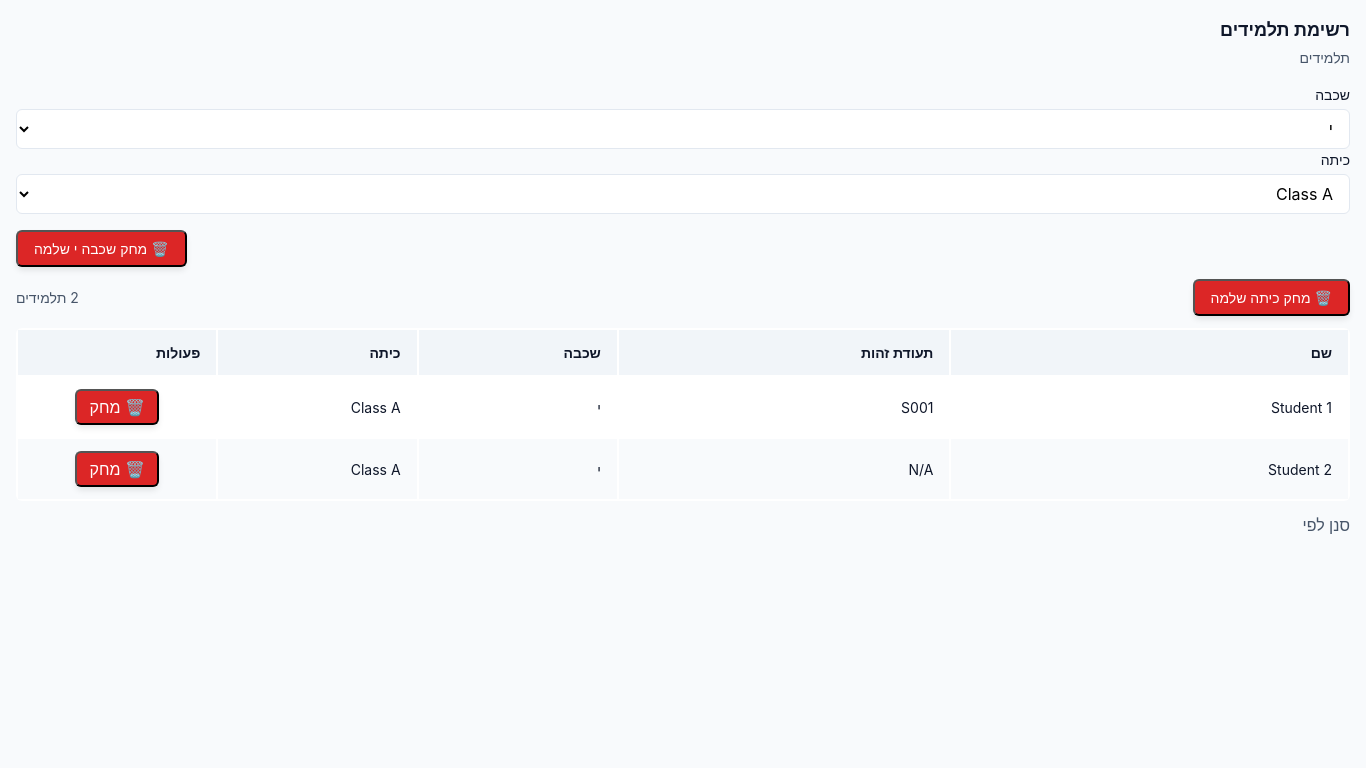
Scenario: StudentList › Class Filtering (Requirement 2.2, 2.4) › should update students when class changes
Expected: the text "Student 1" is shown, [951,377,1348,437]
Note: Change to Class B
Select "Class B" in the dropdown labelled "כיתה" at {"x": 683, "y": 194}, box [16,174,1350,214]
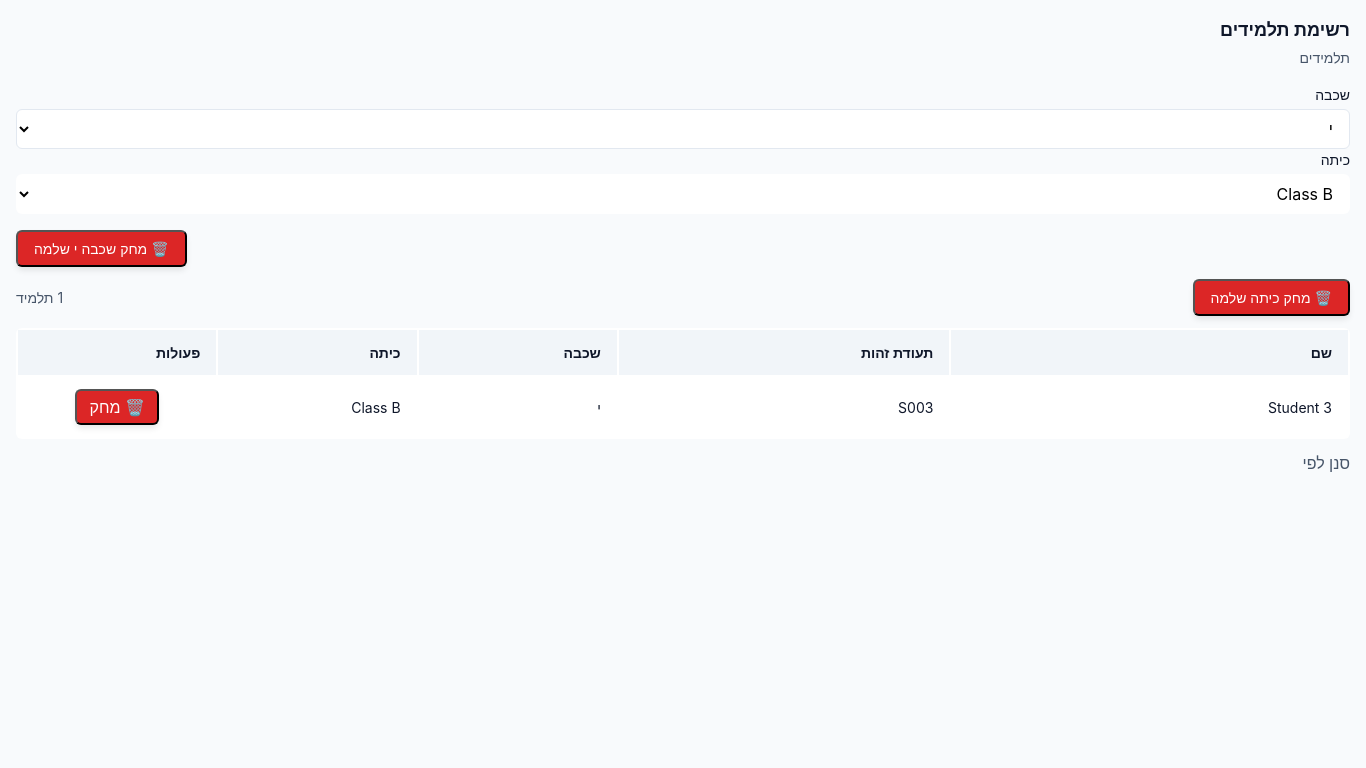
Now the text "Student 3" is shown, box [951,377,1348,437]
Now the text "Student 1" is gone
Now the text "Student 2" is gone
